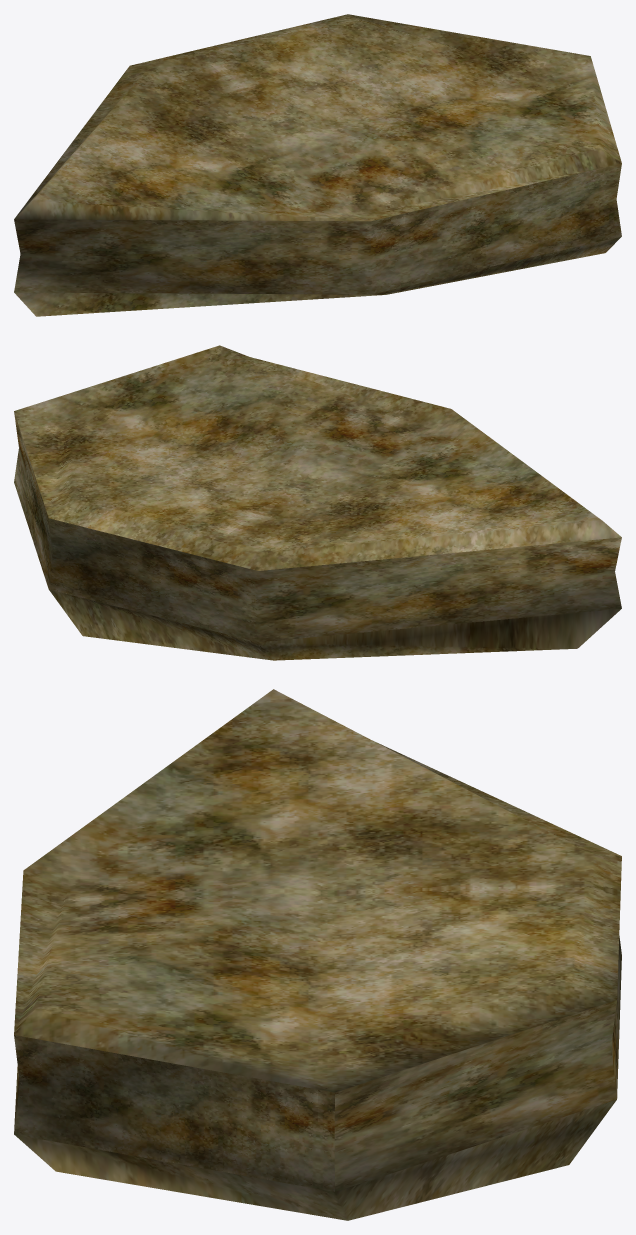
The model's file is TROLLHOLE02_RM_FALL_ROCK02.fbx.
3 renders of one model, top to bottom at view 1: azimuth 30°, elevation 25°; view 2: azimuth 150°, elevation 25°; view 3: azimuth 270°, elevation 25°, orthographic. The views are drawn at different scales.
Parts seen in each view (by area): view 1: TROLLHOLE02_RM_FALL_ROCK02; view 2: TROLLHOLE02_RM_FALL_ROCK02; view 3: TROLLHOLE02_RM_FALL_ROCK02.
Boxes of the visible parts, x1,y1,x2,y2 form: TROLLHOLE02_RM_FALL_ROCK02: (14, 14, 621, 316); TROLLHOLE02_RM_FALL_ROCK02: (14, 345, 621, 660); TROLLHOLE02_RM_FALL_ROCK02: (14, 689, 621, 1220).
Size of the model in its own units: 25797 by 6671 by 16622.
1 material, 1 textured.
